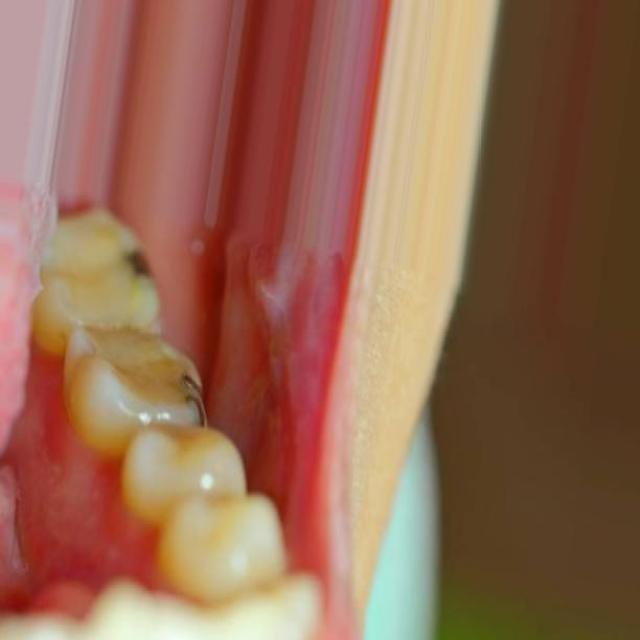caries: (170, 365, 219, 434), (122, 234, 164, 293)
